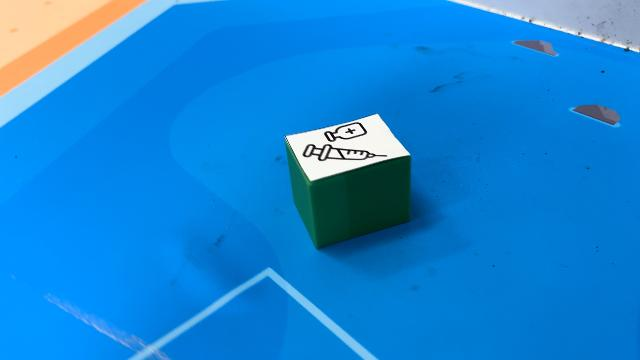syringe: (289, 114, 415, 250)
